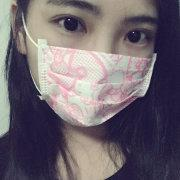OK: (31, 3, 159, 125)
